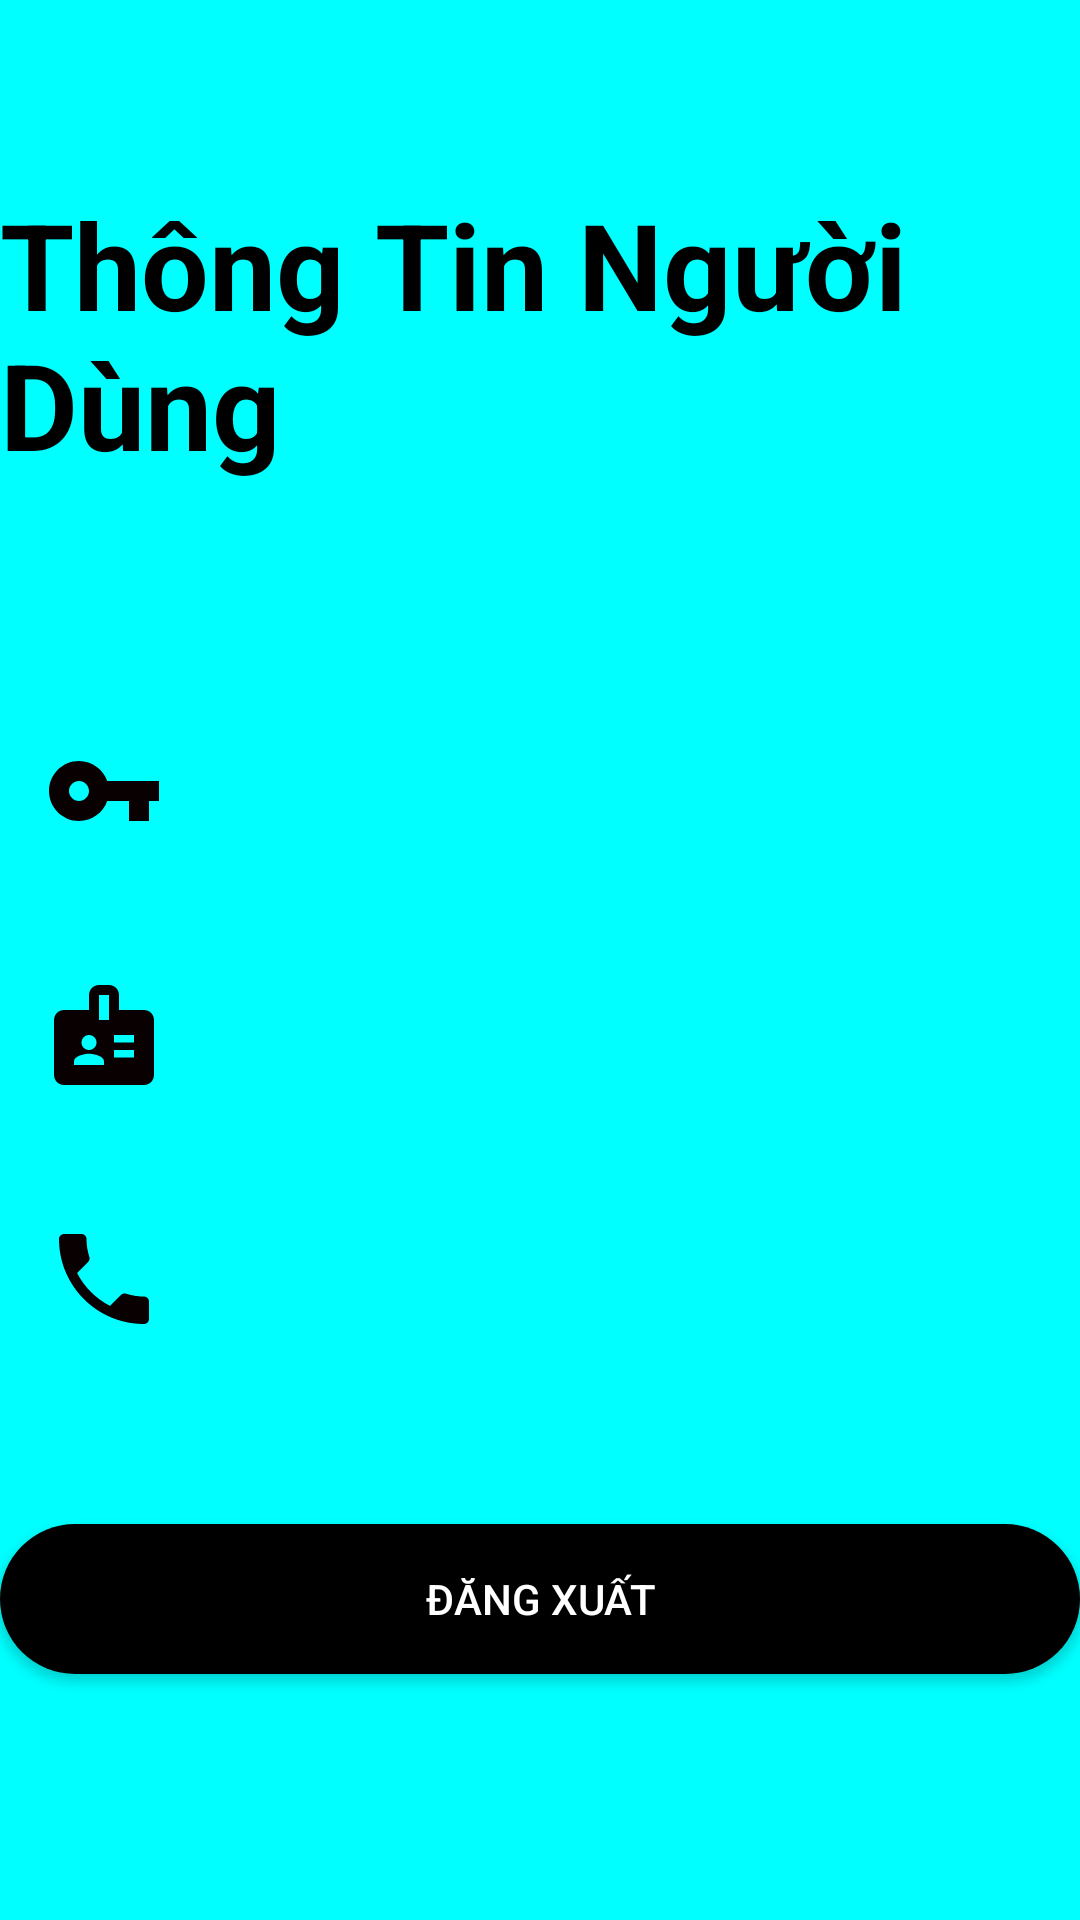

Where icons sit on this 1080x1920 app screen, as (x1,y1,x2,y2):
badge: (54,985,154,1085)
local phone: (59,1234,149,1324)
vpn key: (49,761,159,821)
